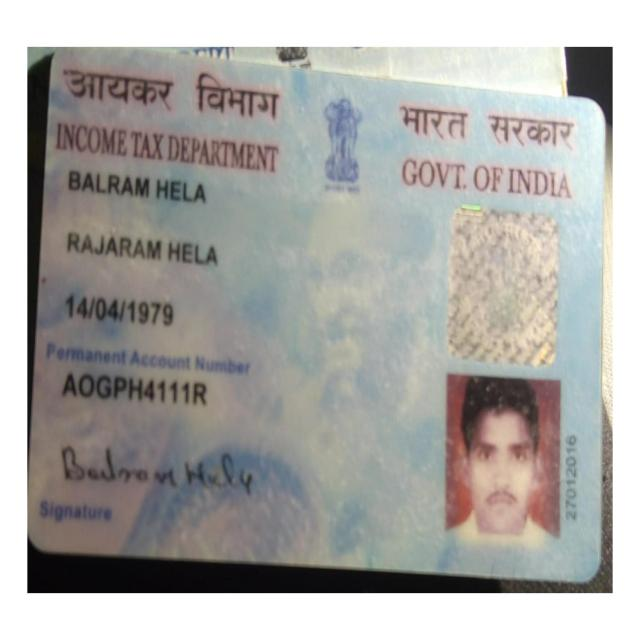pan_card: (25, 49, 601, 577)
